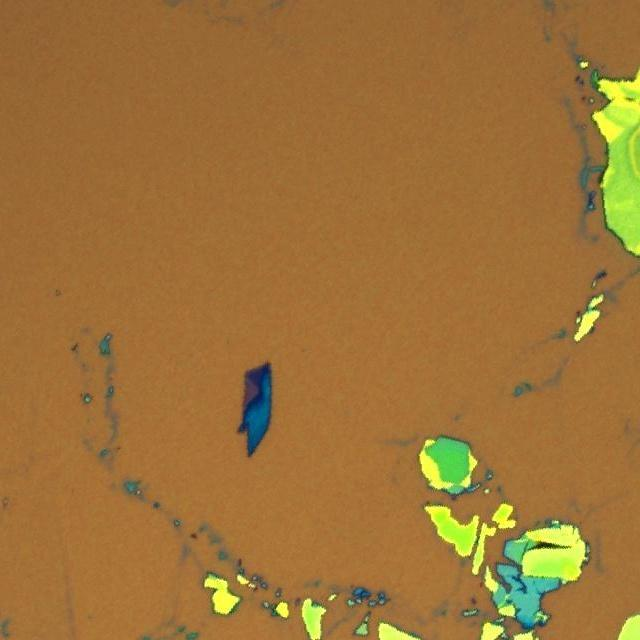monolayer-eWW4: (242, 376, 258, 404)
